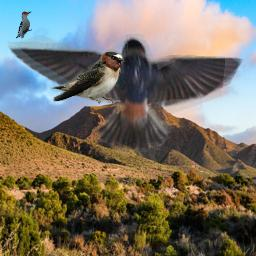Swallow: (2, 34, 245, 152), (51, 49, 126, 104)
Woodpecker: (15, 11, 32, 39)
